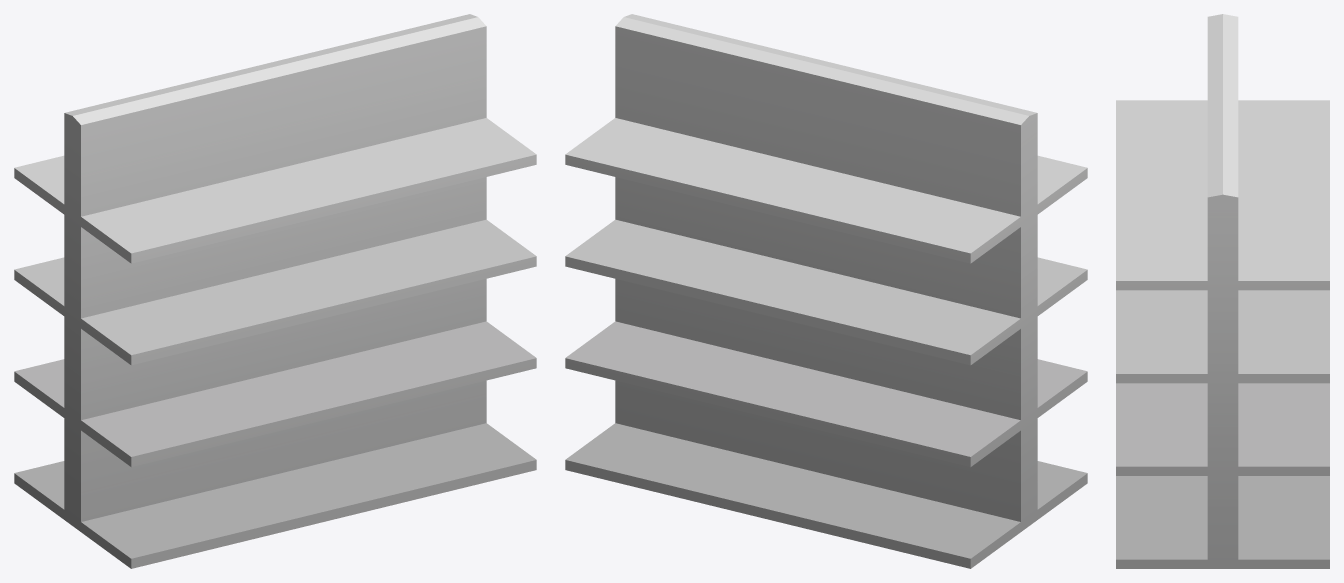
File: case_long_double.fbx
The picture shows the model from 3 angles, left to right: view 1: azimuth 30°, elevation 25°; view 2: azimuth 150°, elevation 25°; view 3: azimuth 270°, elevation 25°; orthographic projection. The views are drawn at different scales.
Parts seen in each view (by area): view 1: case_long_double; view 2: case_long_double; view 3: case_long_double.
Part boxes in pixels (x1,y1,x2,y2): case_long_double: (14,14,536,568); case_long_double: (565,14,1087,568); case_long_double: (1116,14,1329,568).
Bounding box in the file's own units: 1260 × 1218 × 630.
